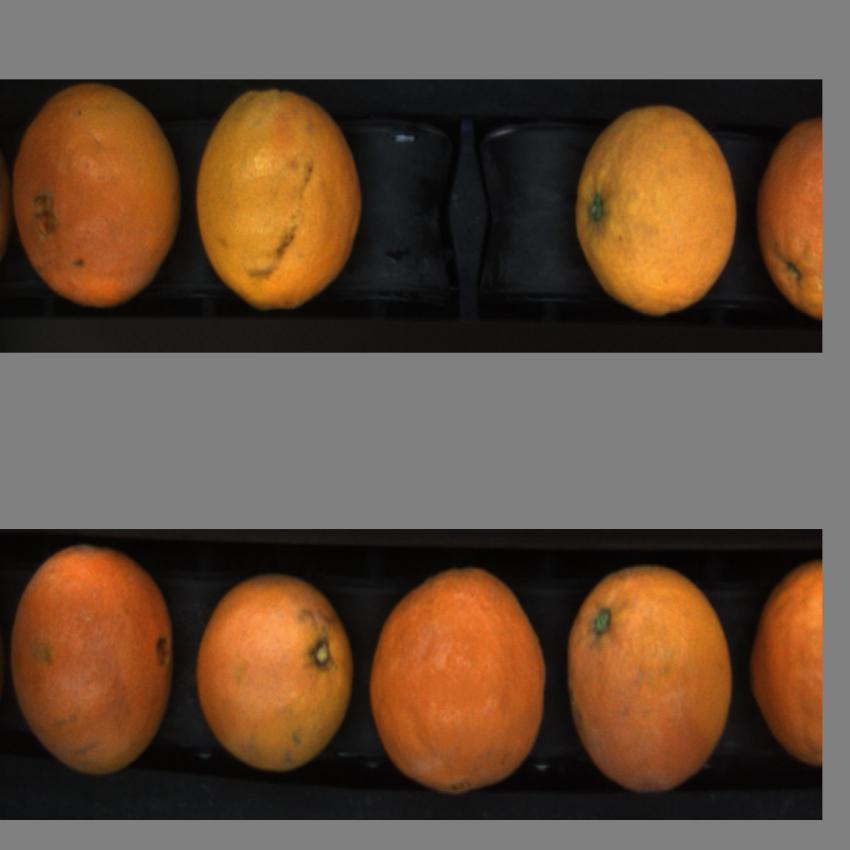Buen estado: (364, 562, 554, 795), (563, 555, 742, 800), (192, 81, 376, 318), (7, 548, 184, 778), (569, 98, 744, 320), (195, 566, 359, 777), (745, 554, 825, 777), (754, 108, 821, 324)
Mal estado: (9, 82, 187, 311)
